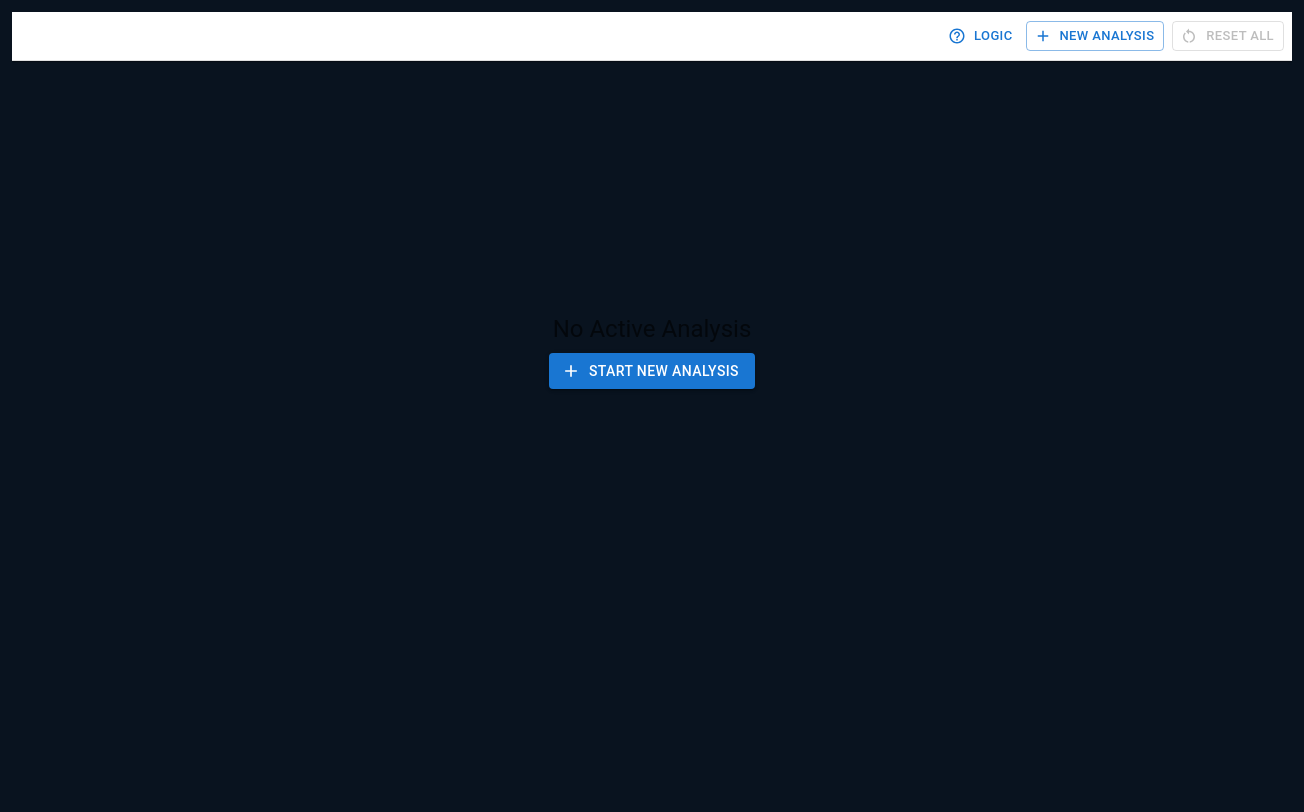
Test: ExceptionGeneratorView Multi-Tab › adds a new tab when clicking Start New Analysis
Step 1. Click the button "Start New Analysis" → (652, 371), box [549,353,755,390]
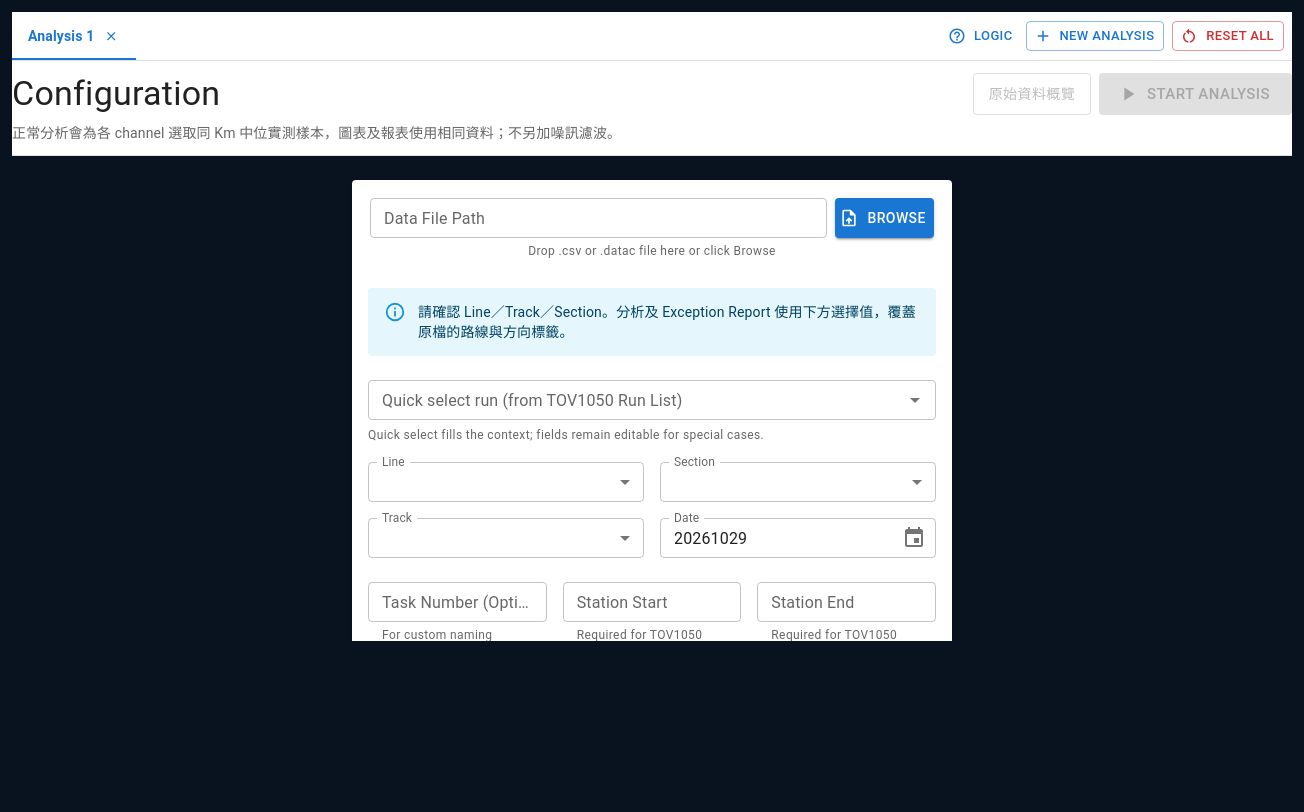
Expected: the text "Analysis 1" is shown, [28,26,94,46]
Expected: the heading "Configuration" is shown, [12,73,220,115]
